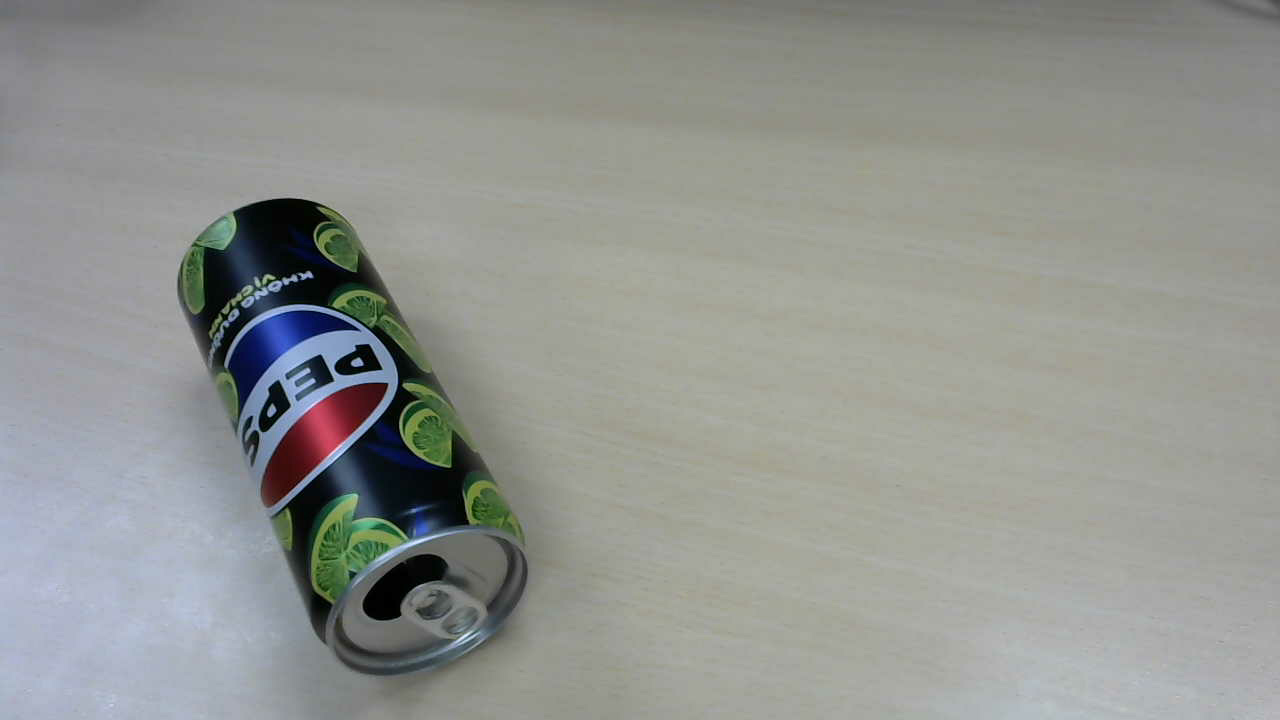Pepsi: (183, 202, 535, 680)
